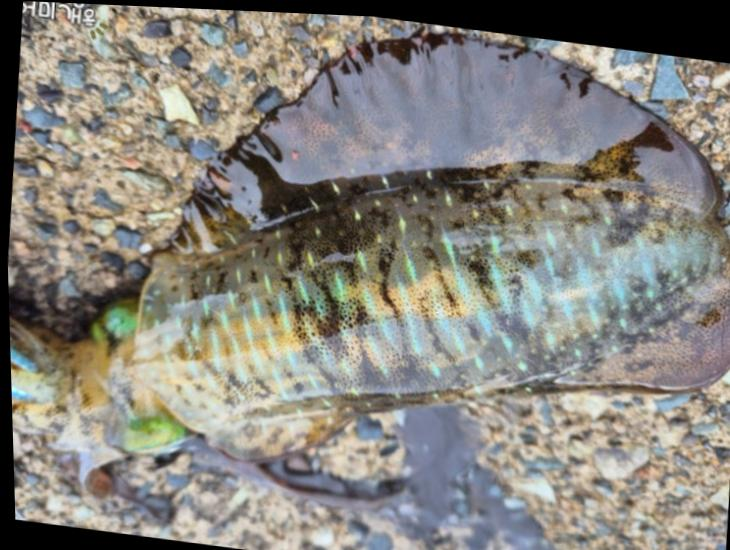Cephalopod: (7, 31, 730, 504)
